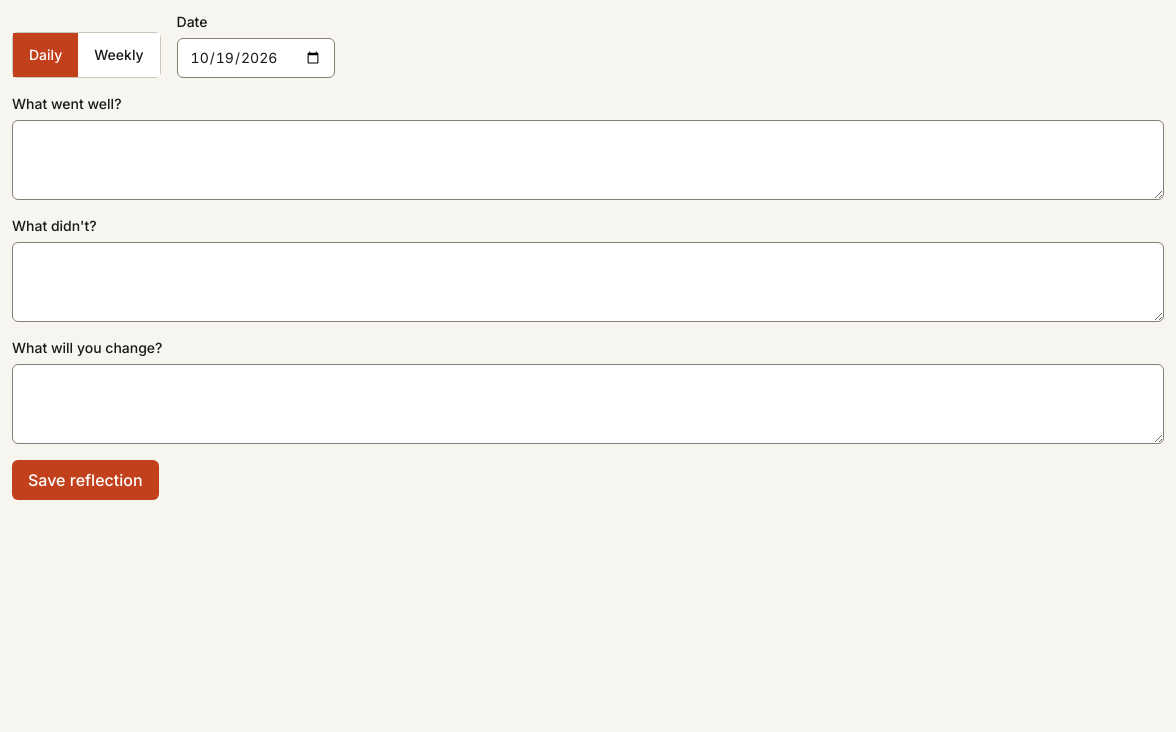
Scenario: ReflectionForm › keeps text and shows the server error on failure, saved only on ok
This screenshot has width=1176, height=732.
Type "hello" into the text box labelled "What went well?" at (588, 160), box [12,120,1164,200]
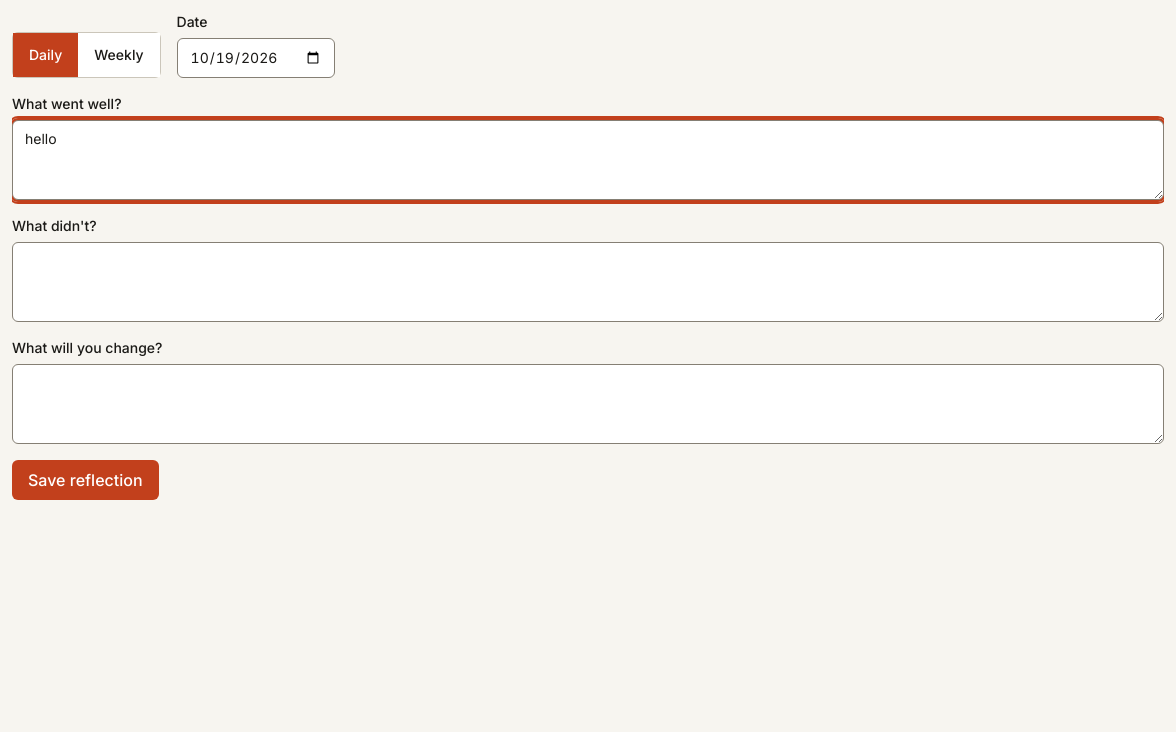
Click the button "Save reflection" at (85, 480), box [12,460,158,500]
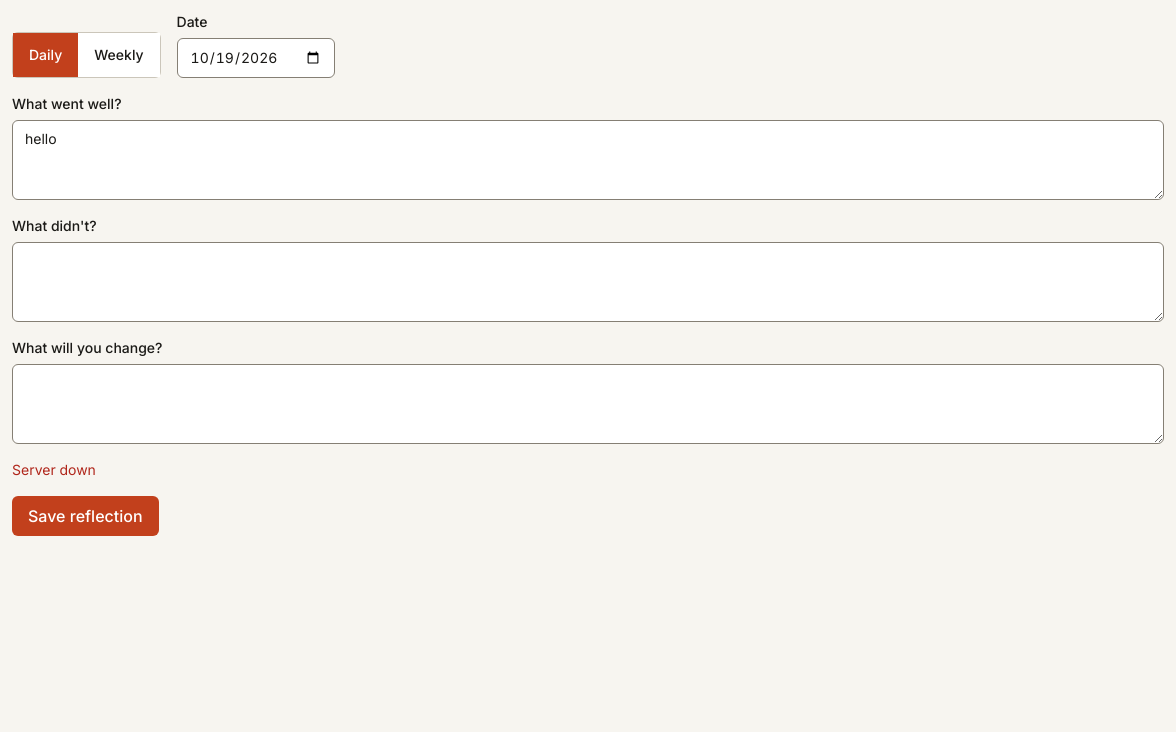
Check: the message reads "Server down", box [12,461,96,478]
